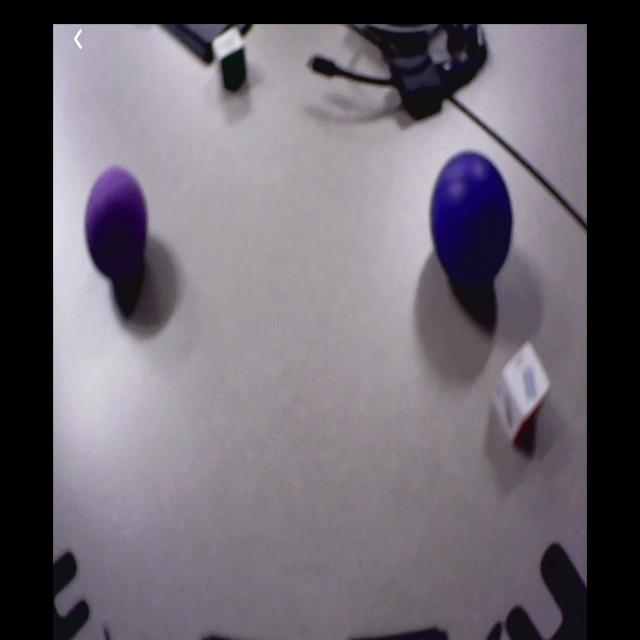ball: (431, 152, 514, 281), (85, 168, 147, 274)
